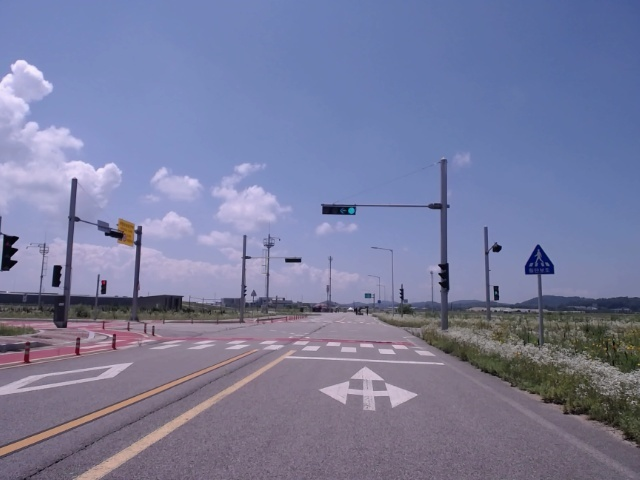all_green_4: (322, 204, 355, 214)
